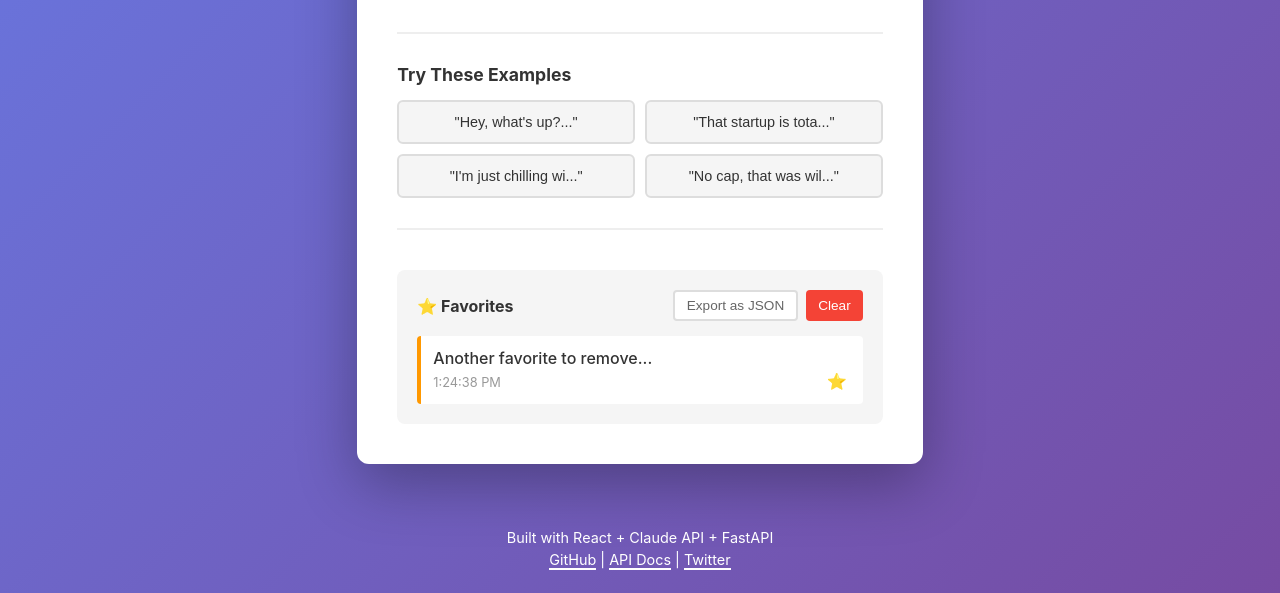
it: removing a favorite from the Favorites list removes it from the DOM
The width and height of the screenshot is (1280, 593).
(page scrolled)
Check: the text "Another favorite to remove..." is shown, box [433,348,652,368]
Click the button named "Remove from favorites" at (837,382), box [823,372,851,392]
(page scrolled)
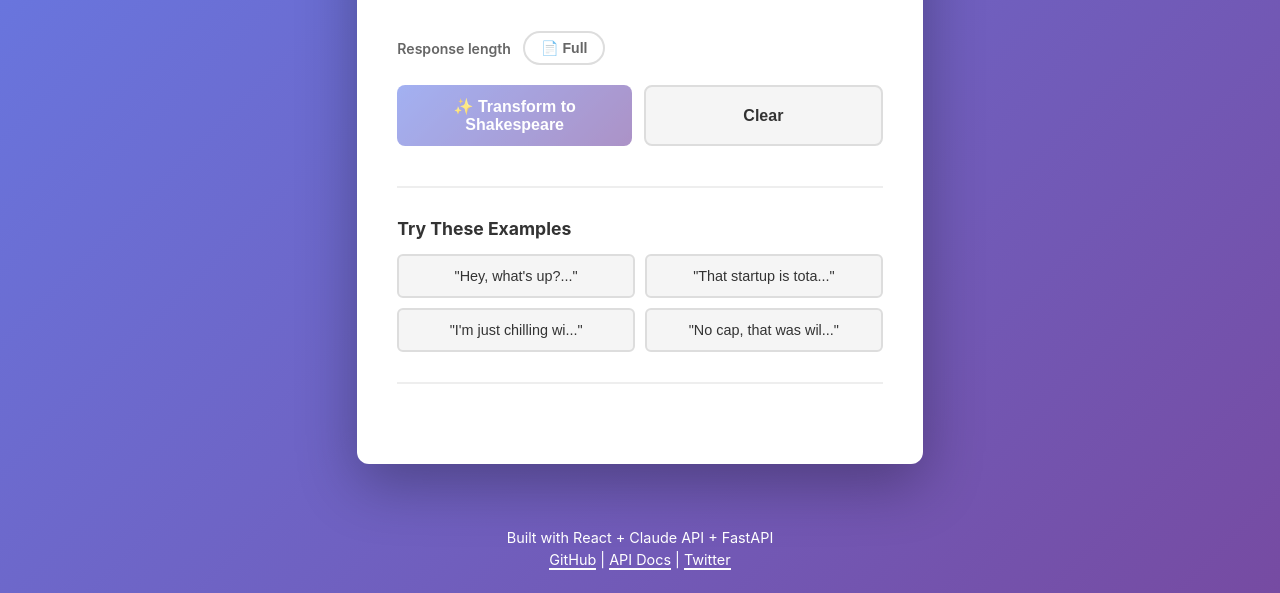
Check: the button "Another favorite to remove" is gone
